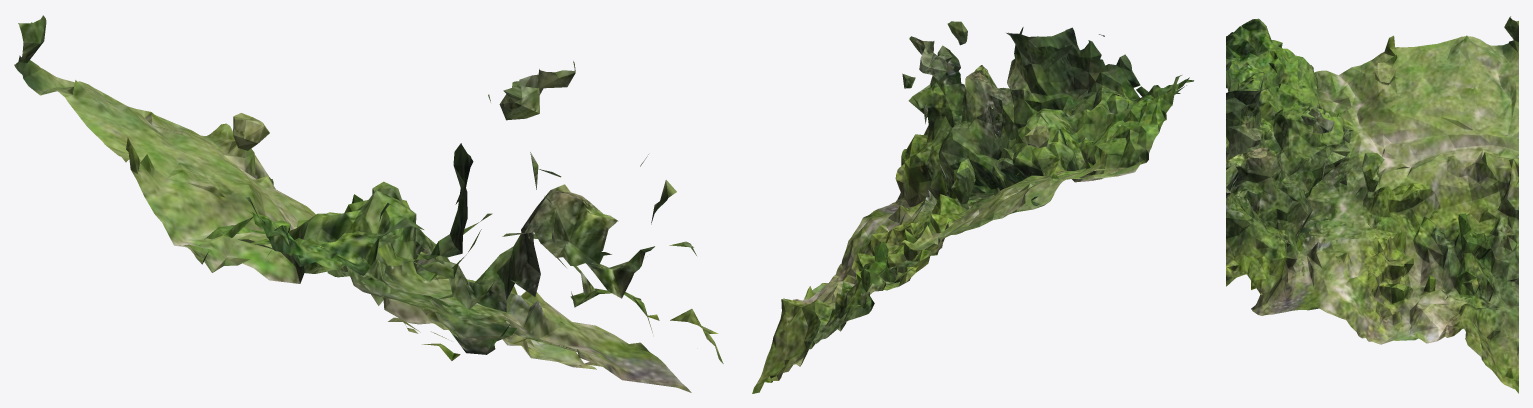
3 renders of one model, left to right at view 1: azimuth 30°, elevation 25°; view 2: azimuth 150°, elevation 25°; view 3: azimuth 270°, elevation 25°, orthographic. The views are drawn at different scales.
Size of the model in its own units: 26.11 by 25.2 by 26.11.
4 materials, 4 textured.
